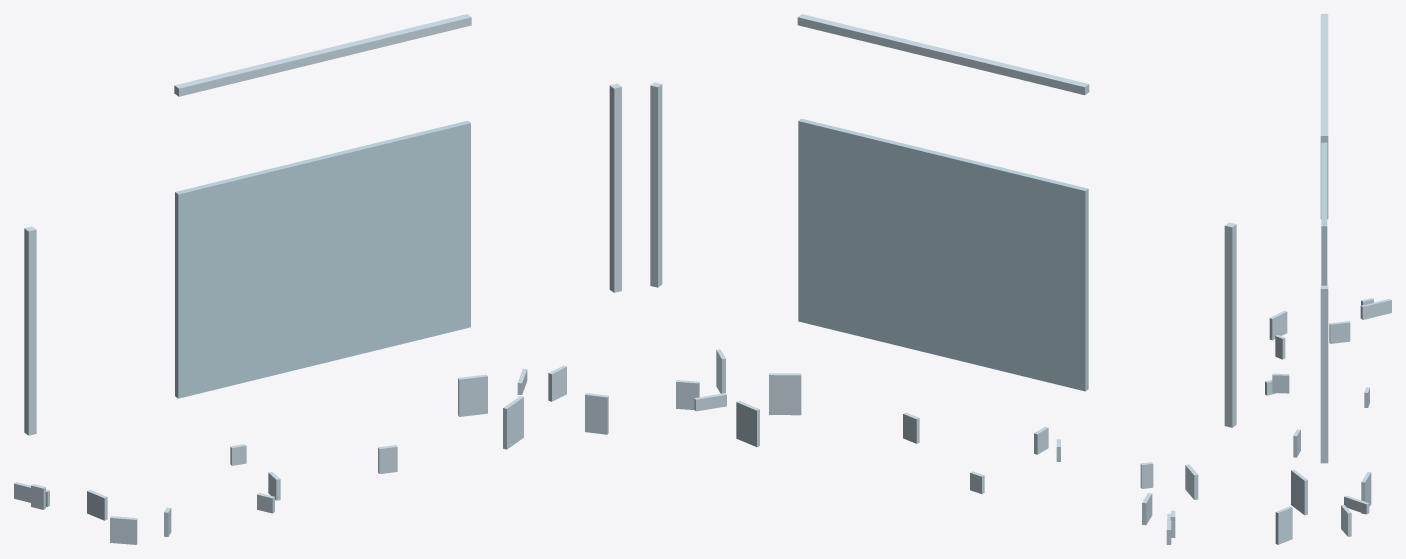
File: GlassPartition_Break.fbx
3 renders of one model, left to right at view 1: azimuth 30°, elevation 25°; view 2: azimuth 150°, elevation 25°; view 3: azimuth 270°, elevation 25°, orthographic. The views are drawn at different scales.
Parts seen in each view (by area): view 1: GlassPartition_Break_Pre, GlassPartition_Break_Post; view 2: GlassPartition_Break_Pre, GlassPartition_Break_Post; view 3: GlassPartition_Break_Post, GlassPartition_Break_Pre.
Boxes of the visible parts, bbox=[...] form: GlassPartition_Break_Pre: bbox=[175, 120, 470, 398]; GlassPartition_Break_Post: bbox=[14, 14, 621, 544]; GlassPartition_Break_Pre: bbox=[798, 118, 1088, 391]; GlassPartition_Break_Post: bbox=[650, 14, 1236, 544]; GlassPartition_Break_Post: bbox=[1265, 14, 1391, 544]; GlassPartition_Break_Pre: bbox=[1321, 142, 1327, 285].
Size of the model in its own units: 304 by 208 by 66.02.
